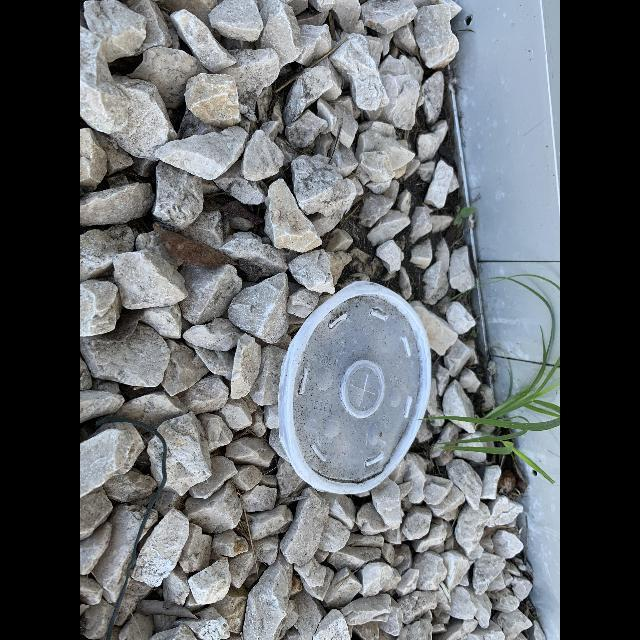Plastic: (279, 281, 431, 493)
